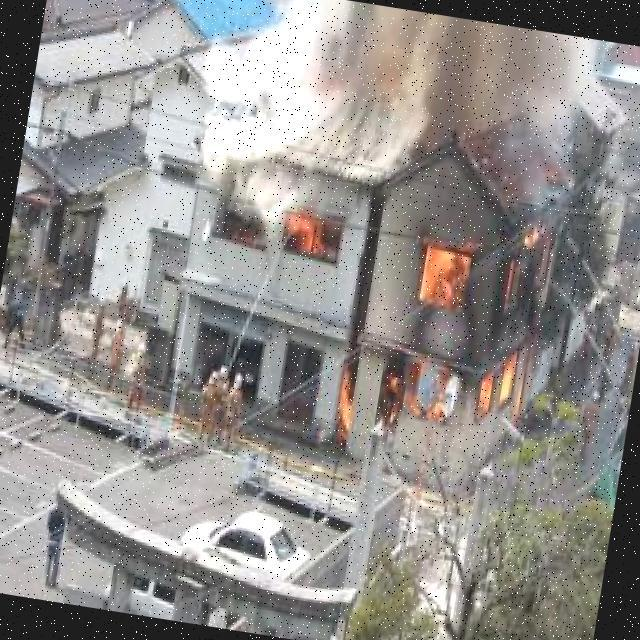Fire: (317, 184, 560, 466), (210, 197, 338, 264)
